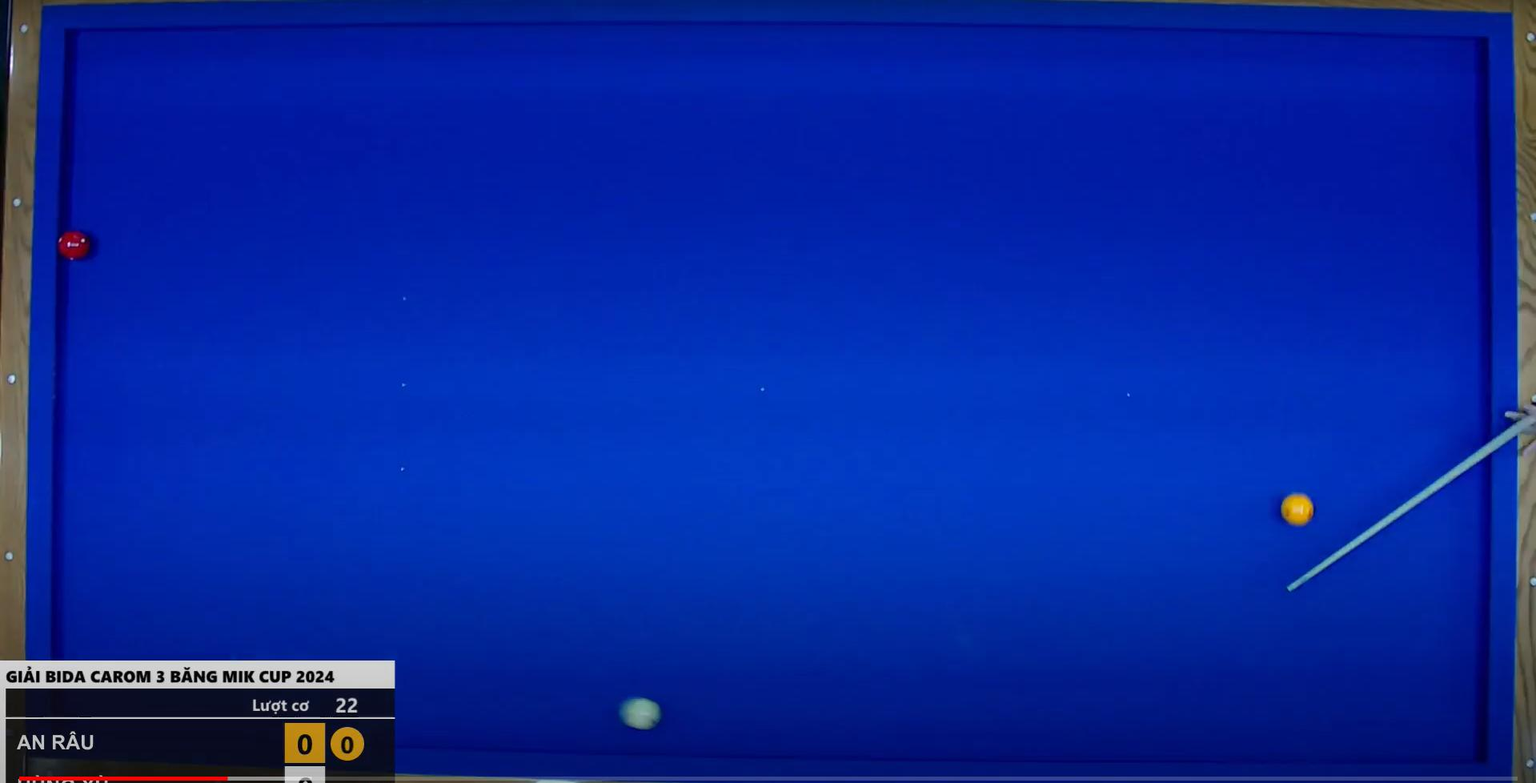red ball: (50, 216, 102, 279)
white ball: (618, 687, 672, 742)
yellow ball: (1273, 485, 1321, 533)
